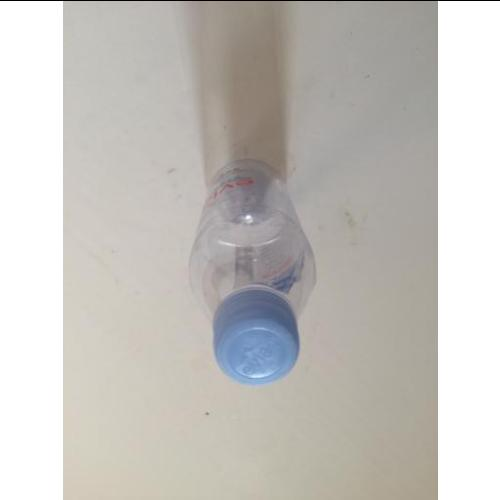plastic: (192, 160, 316, 385)
